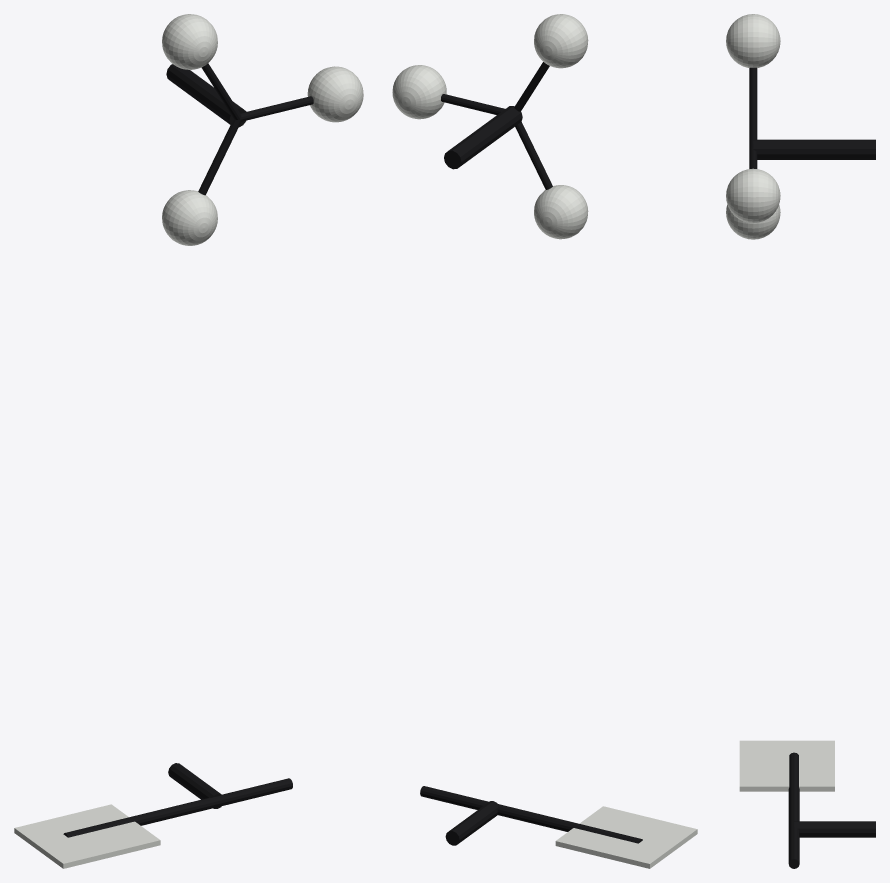
Rendered from anemometer_ok.glb.
3 renders of one model, left to right at view 1: azimuth 30°, elevation 25°; view 2: azimuth 150°, elevation 25°; view 3: azimuth 270°, elevation 25°, orthographic. The views are drawn at different scales.
Visible parts, largest first — view 1: anemometer_ok; view 2: anemometer_ok; view 3: anemometer_ok.
Boxes of the visible parts, bbox=[...] form: anemometer_ok: bbox=[14, 14, 363, 868]; anemometer_ok: bbox=[392, 14, 697, 868]; anemometer_ok: bbox=[726, 14, 875, 868].
Size of the model in its own units: 0.5 by 1.29 by 0.22.
2 materials, 1 textured.
